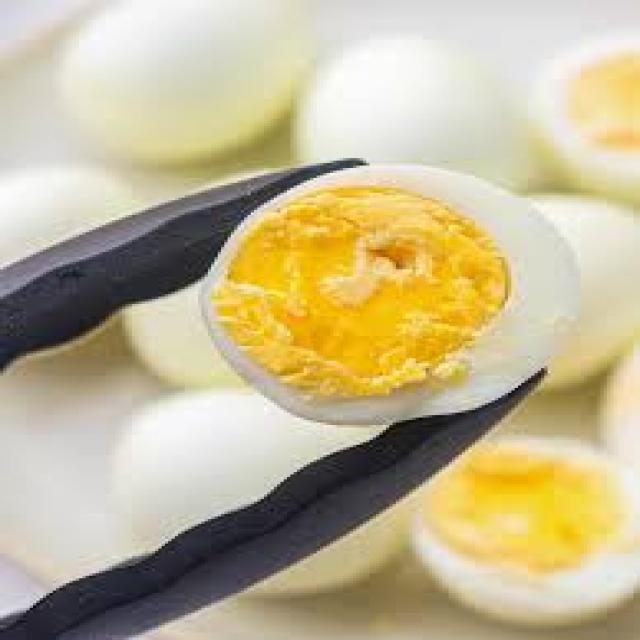boiled egg: (205, 166, 577, 425)
